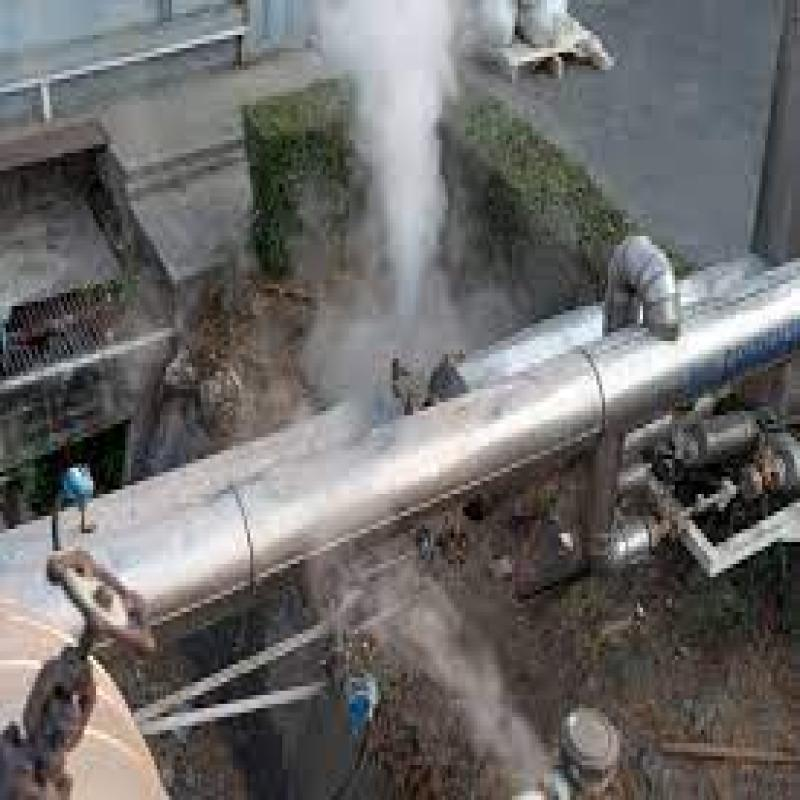Fracture: (301, 233, 497, 504)
